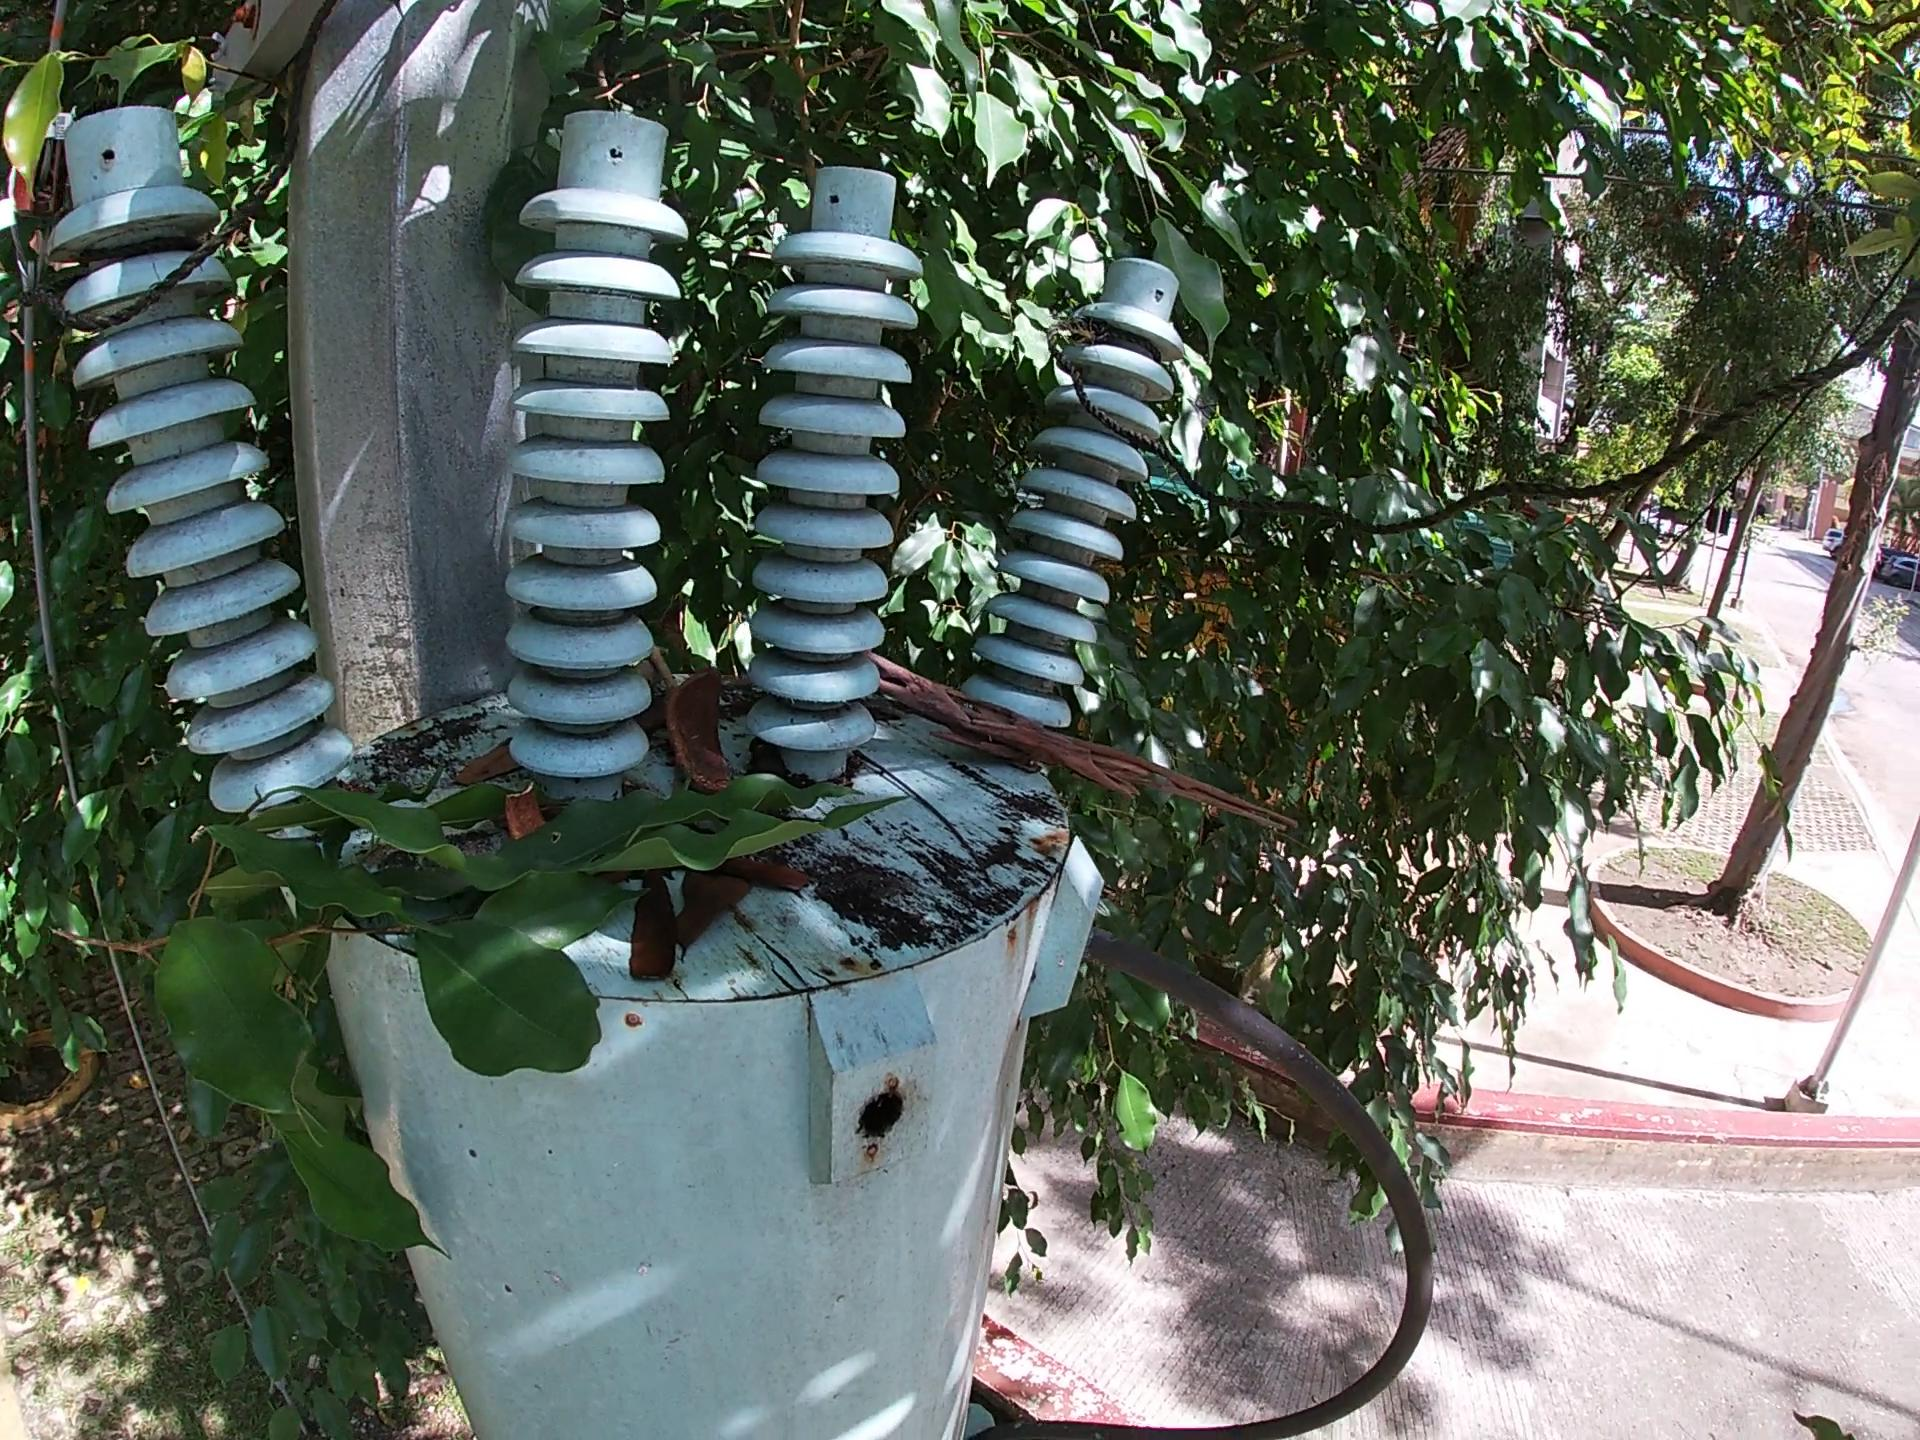branch with leaves: (119, 767, 919, 1268)
leaf: (673, 870, 753, 970), (620, 871, 683, 988), (717, 855, 822, 898), (447, 734, 528, 787)
mahogany fruit: (655, 666, 742, 796), (497, 788, 553, 846)
tree branch: (866, 647, 1306, 838)
